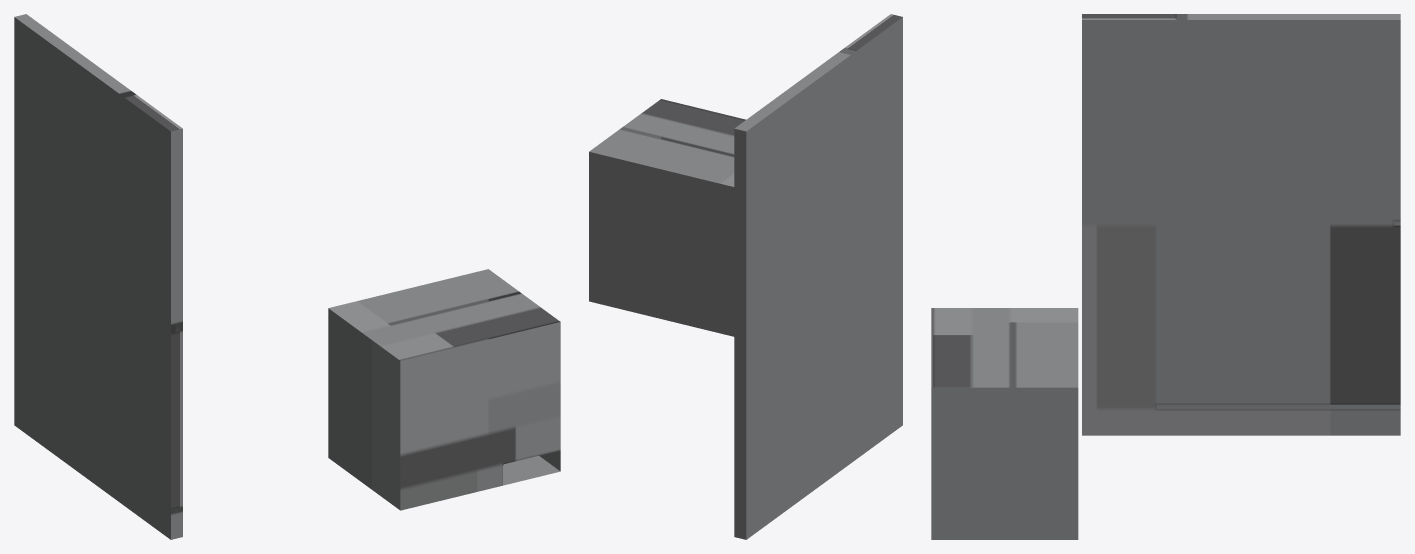
The picture shows the model from 3 angles, left to right: view 1: azimuth 30°, elevation 25°; view 2: azimuth 150°, elevation 25°; view 3: azimuth 270°, elevation 25°; orthographic projection.
Bounding box in the file's own units: 0.7687 × 0.95 × 0.9723.
